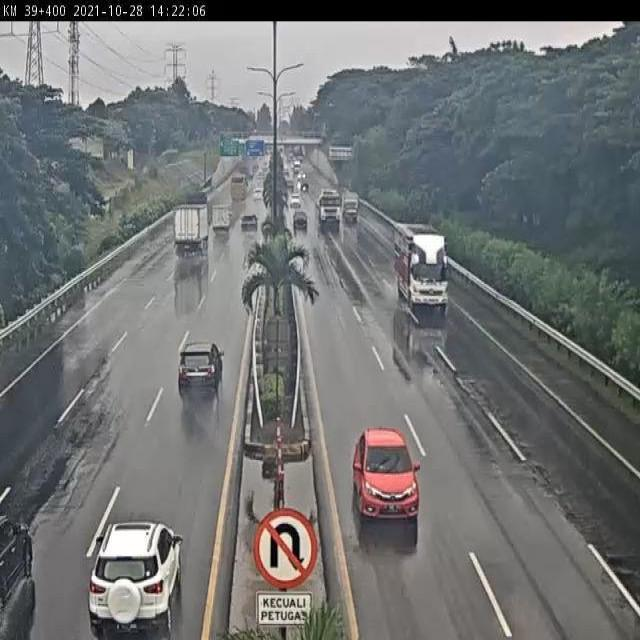car: (90, 520, 181, 633), (351, 424, 421, 523), (177, 344, 222, 393), (240, 209, 260, 236), (290, 204, 309, 229)
truck: (391, 220, 452, 311), (170, 199, 211, 257), (315, 185, 342, 231), (211, 207, 232, 239)
